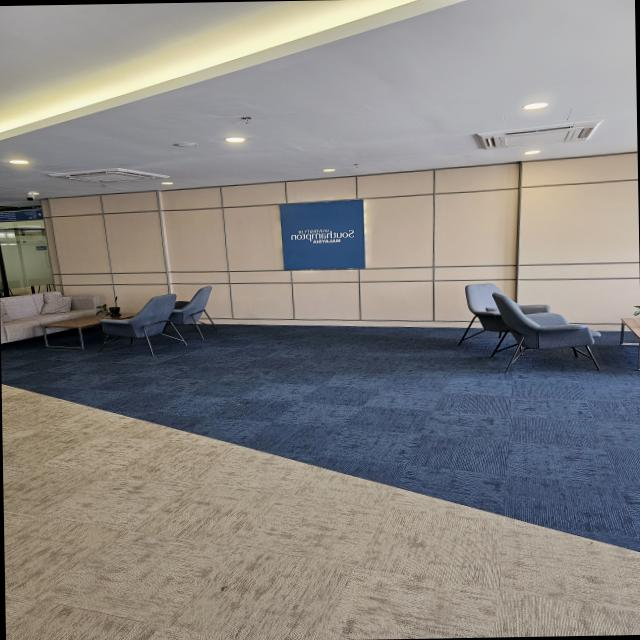footpath: (1, 377, 640, 640)
obstacle: (0, 280, 222, 357), (454, 280, 612, 370)
